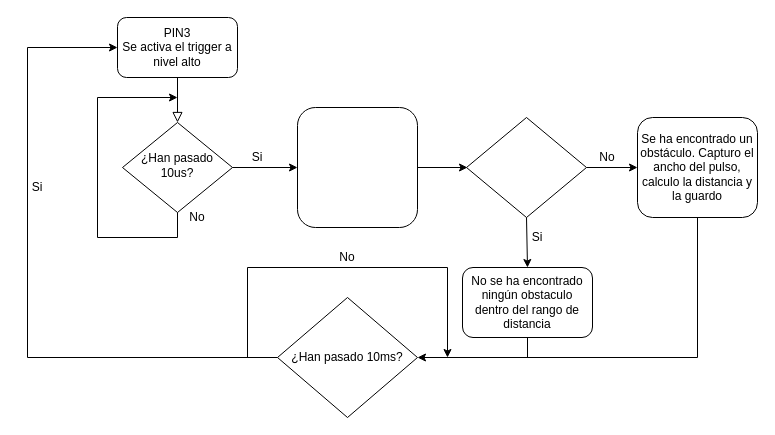
Some shapes in this 775 by 435 pixel diagram are drawn without their labels. The centre of each missing label's shape, as x and y in pixels:
"Ponemos Trigger a nivel bajo PIN 2 Esperamos al pulso y leemos su anchura" goes at [357,167].
"¿Mide 3ms?" goes at [526,167].
